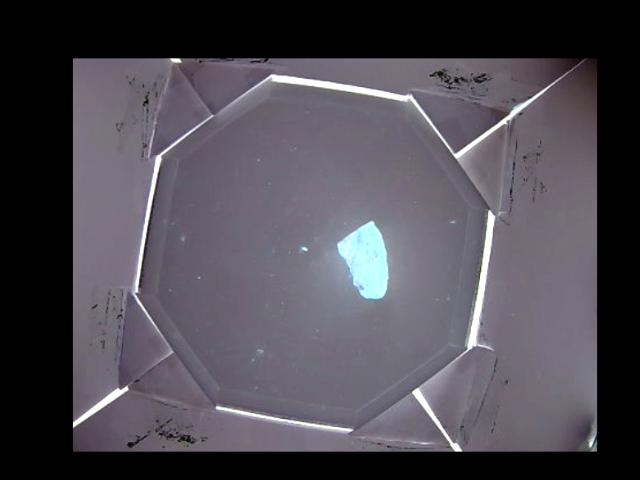Brisk: (337, 220, 389, 299)
